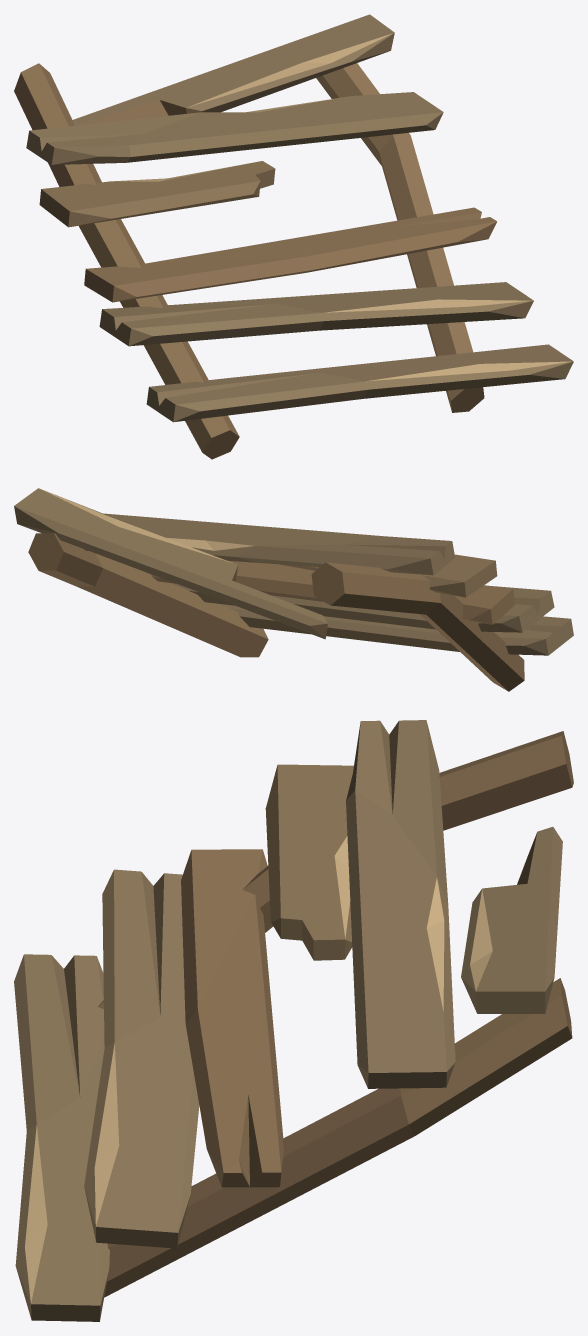
Rendered from rpgpp_av_stairs_entrance_01b.gltf.
3 renders of one model, top to bottom at view 1: azimuth 30°, elevation 25°; view 2: azimuth 150°, elevation 25°; view 3: azimuth 270°, elevation 25°, orthographic. The views are drawn at different scales.
Visible parts, largest first — view 1: rpgpp_av_stairs_entrance_01b; view 2: rpgpp_av_stairs_entrance_01b; view 3: rpgpp_av_stairs_entrance_01b.
Part boxes in pixels (bbox=[...]): rpgpp_av_stairs_entrance_01b: bbox=[14, 14, 573, 459]; rpgpp_av_stairs_entrance_01b: bbox=[14, 488, 573, 691]; rpgpp_av_stairs_entrance_01b: bbox=[14, 720, 573, 1321].
Bounding box in the file's own units: 0.0237 × 0.0155 × 0.0199.
1 material, 1 textured.
